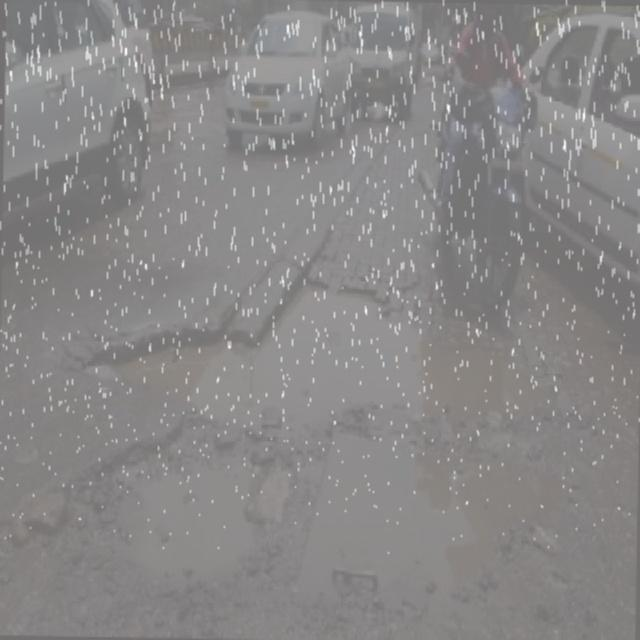Pothole: (72, 267, 610, 445), (232, 447, 301, 534)
